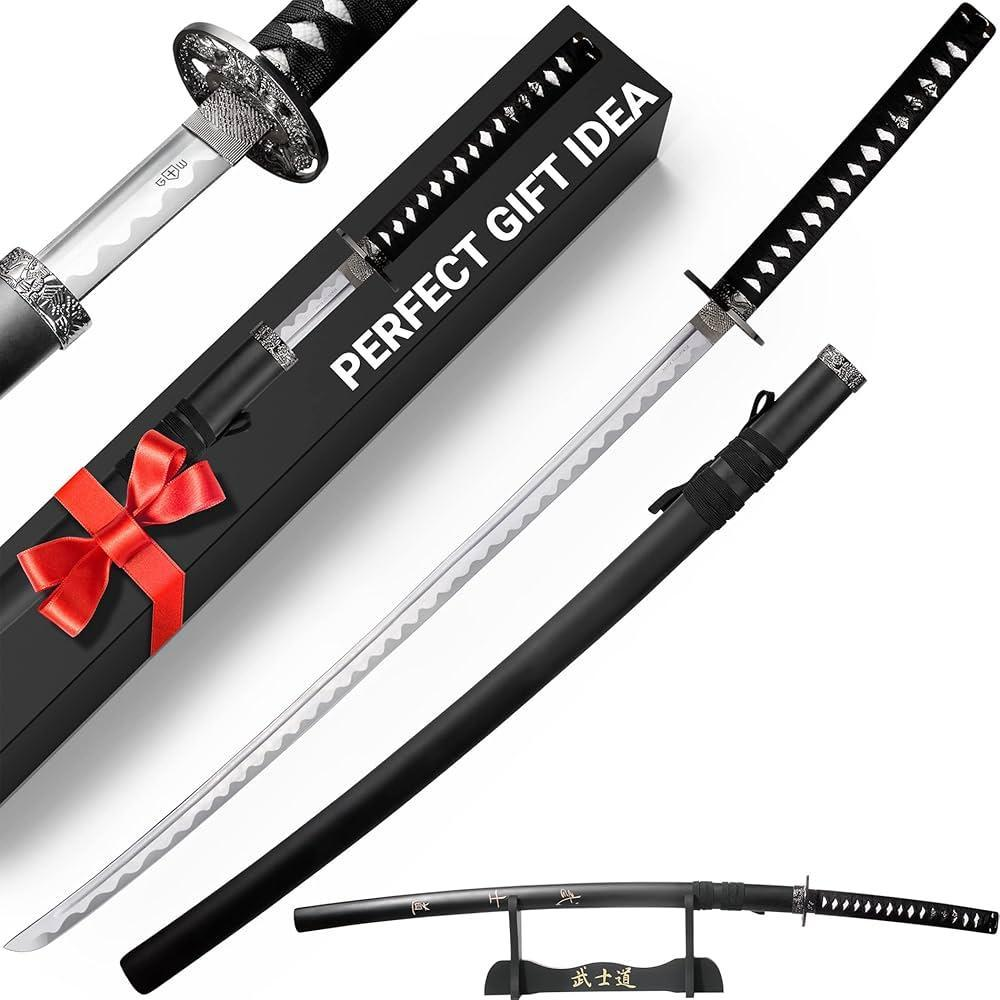espada: (6, 26, 1000, 954), (311, 858, 996, 938)
